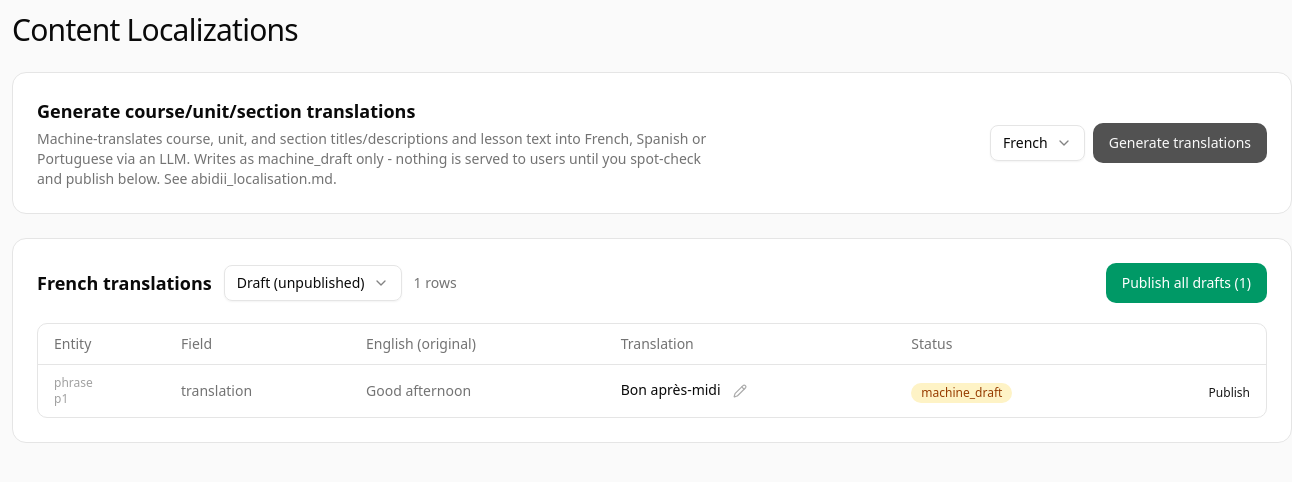
Test: cancel leaves the translation unchanged
Step 1. Click the button named "Edit translation" → (740, 391), box x1=729 y1=380 x2=751 y2=402
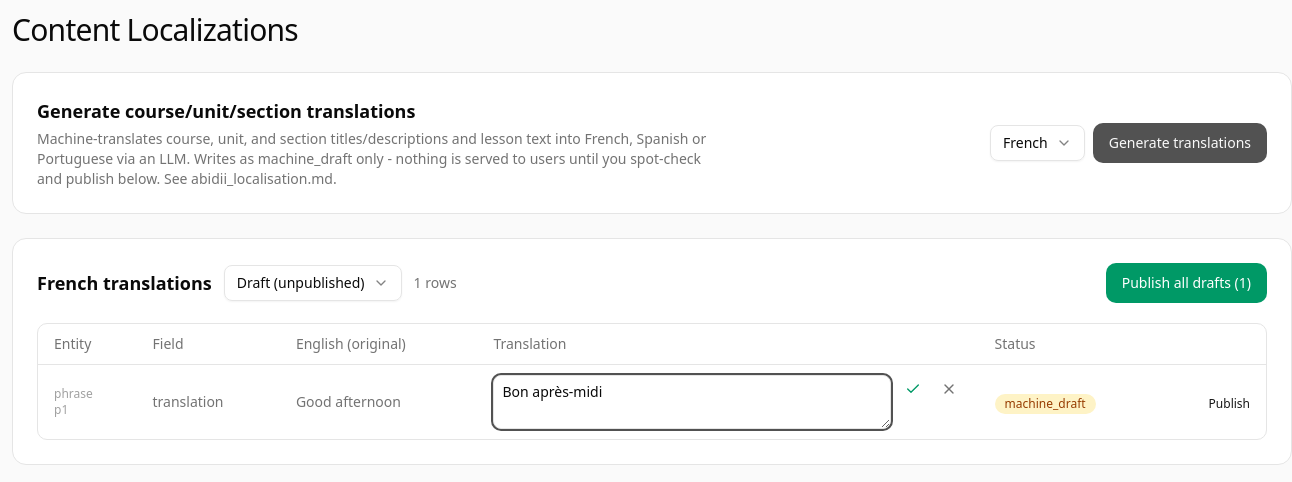
Step 2. Type " xyz" into the text box named "Edit translation" → (692, 402), box x1=493 y1=375 x2=890 y2=429
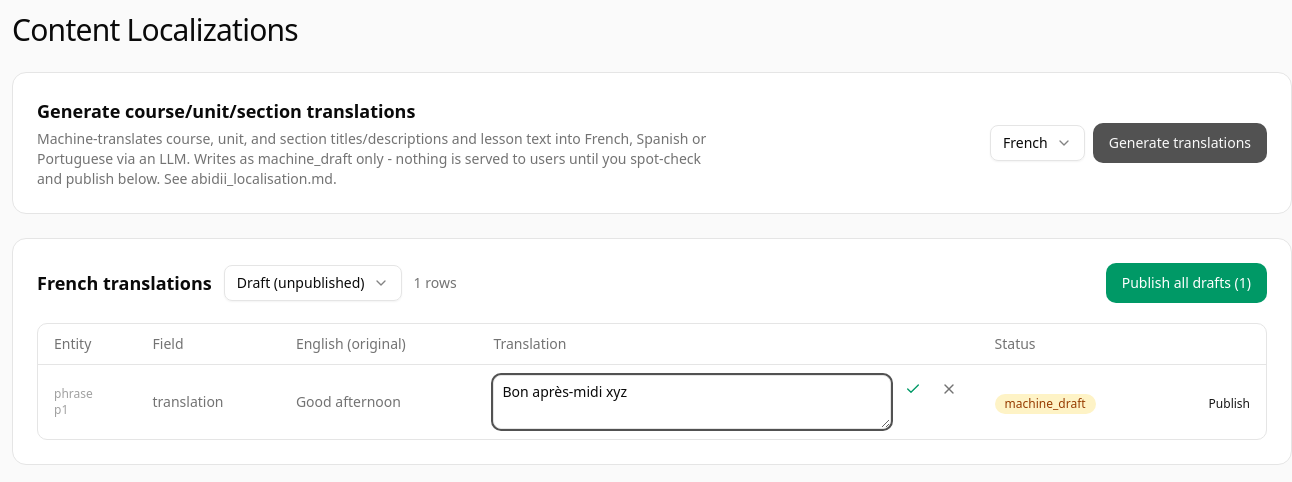
Step 3. Click the button named "Cancel editing" → (949, 389), box x1=935 y1=375 x2=963 y2=403
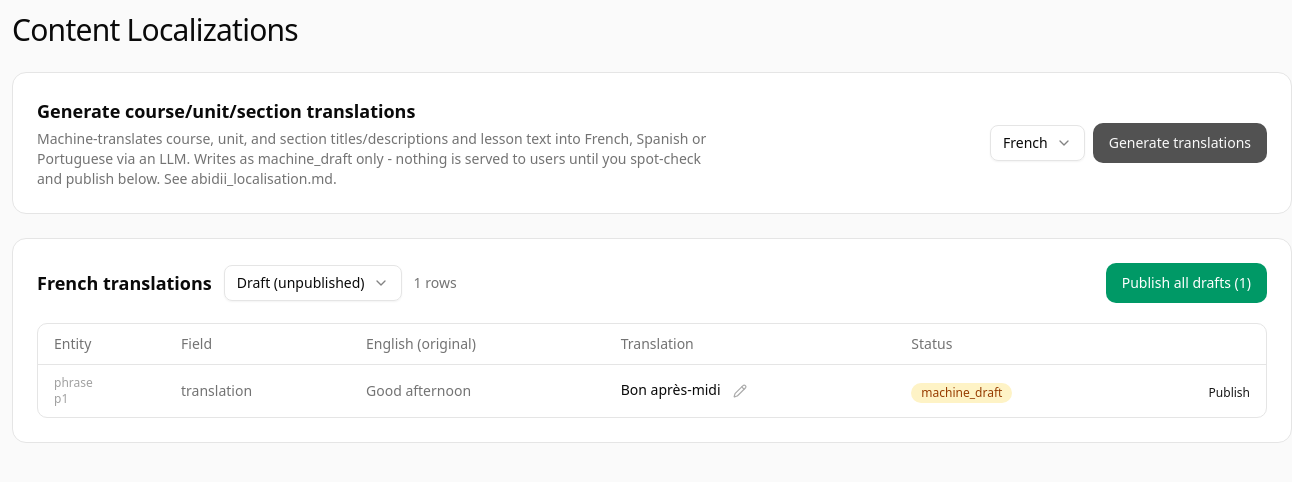
Expected: the text "Bon après-midi" is shown, x1=621 y1=380 x2=721 y2=400
